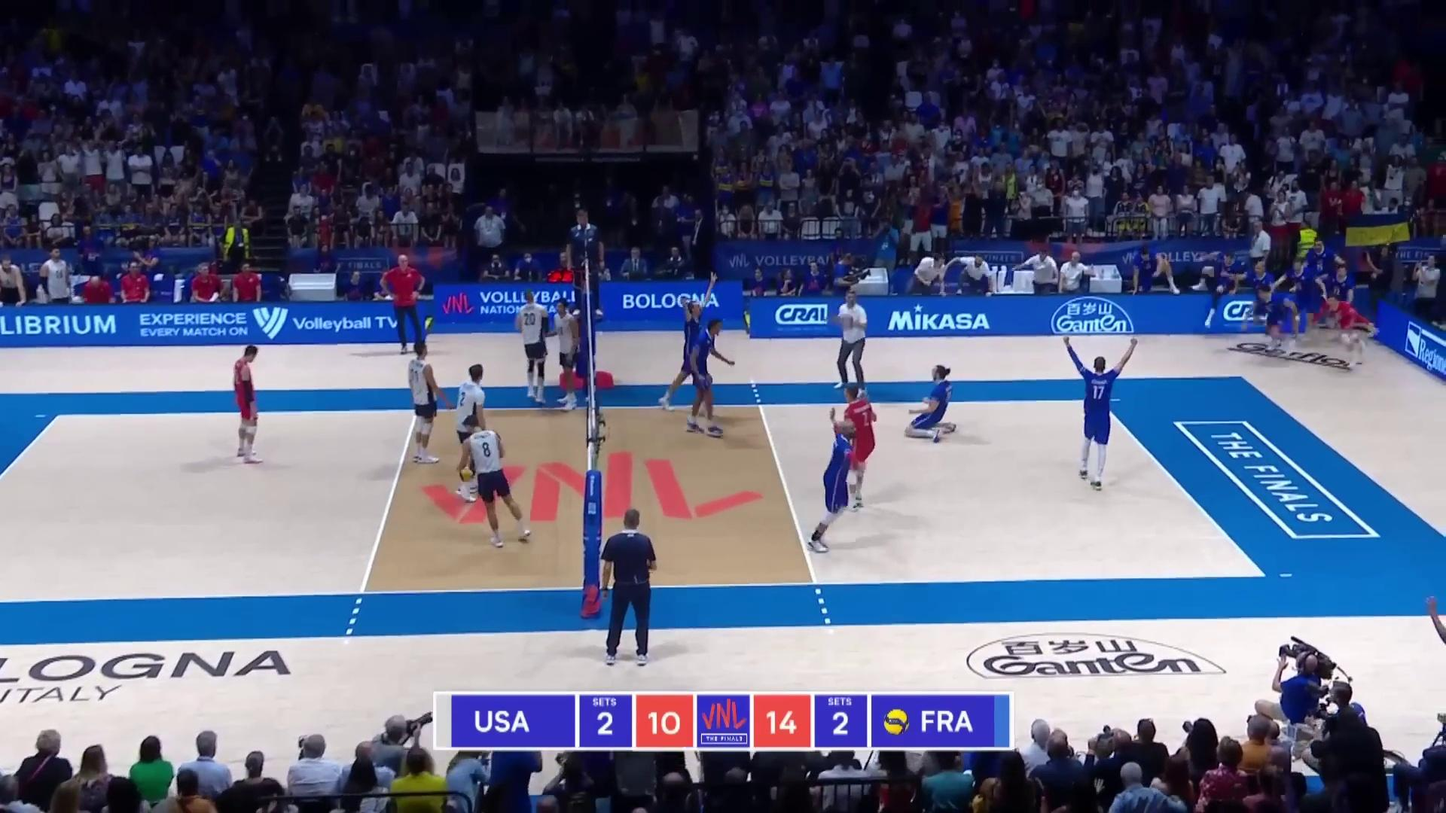player: (1068, 339, 1130, 493), (464, 411, 525, 547), (662, 291, 718, 412), (809, 413, 856, 557), (832, 386, 882, 517), (453, 362, 499, 503), (684, 319, 735, 438), (403, 342, 445, 465), (906, 363, 959, 444), (517, 288, 553, 404), (233, 344, 263, 469), (549, 301, 582, 414)
refree: (598, 509, 660, 665), (569, 206, 608, 316)
